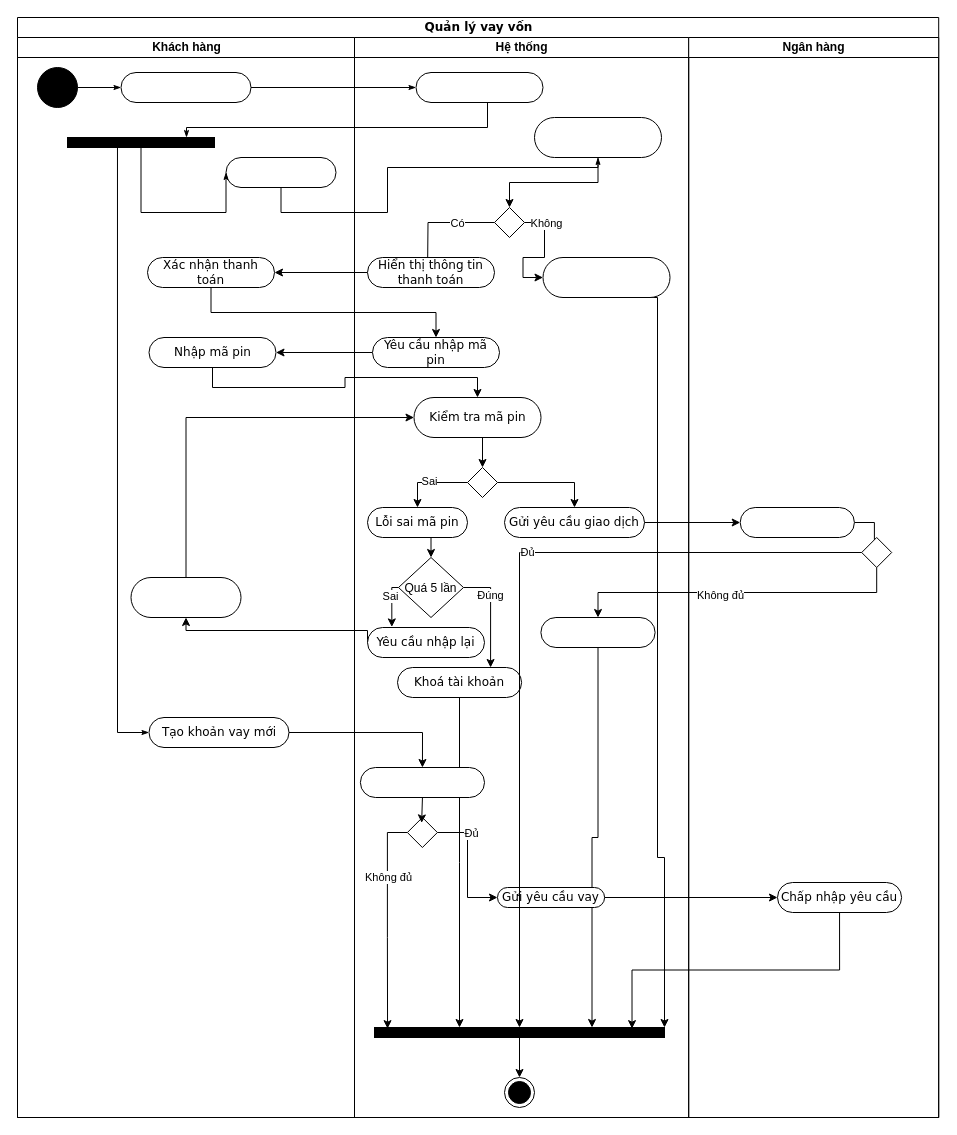
Image size: 957x1135. Some labels were removed from this diagram. The shapes that lost their labels are listed below. From the top down, each one's centre as x and y in pixels, then its label:
At (x=185, y=87): "Khoản vay".
At (x=479, y=87): "Hiển thị tuỳ chọn".
At (x=598, y=137): "Kiểm tra khoản vay hiện có".
At (x=280, y=172): "Thanh toán khoản vay".
At (x=606, y=277): "Thông báo không có khoản vay".
At (x=796, y=522): "Kiểm tra số dư".
At (x=185, y=597): "Nhập lại mã pin".
At (x=597, y=632): "Thông báo không đủ số dư".
At (x=421, y=782): "Kiểm tra điều kiện".
